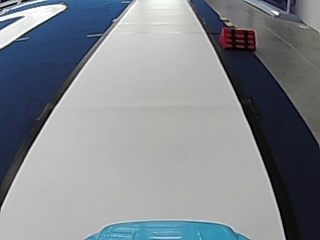bomb: (219, 27, 257, 49)
